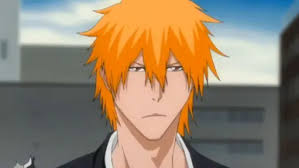Ichigo: (96, 1, 201, 142)
